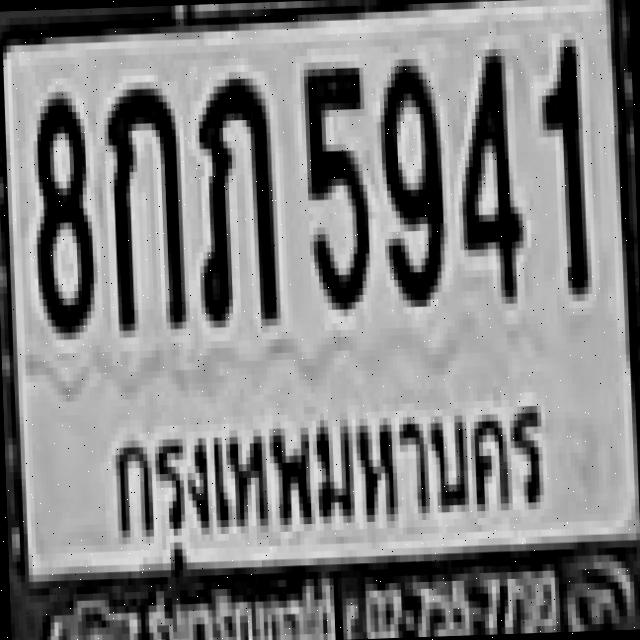1: (536, 36, 584, 292)
10GorGai: (102, 84, 182, 327)
4: (453, 41, 521, 298)
41PhorSamPhao: (190, 70, 274, 320)
5: (299, 60, 367, 304)
8: (27, 90, 91, 334)
9: (374, 55, 442, 298)
Bangkok: (102, 394, 547, 557)
